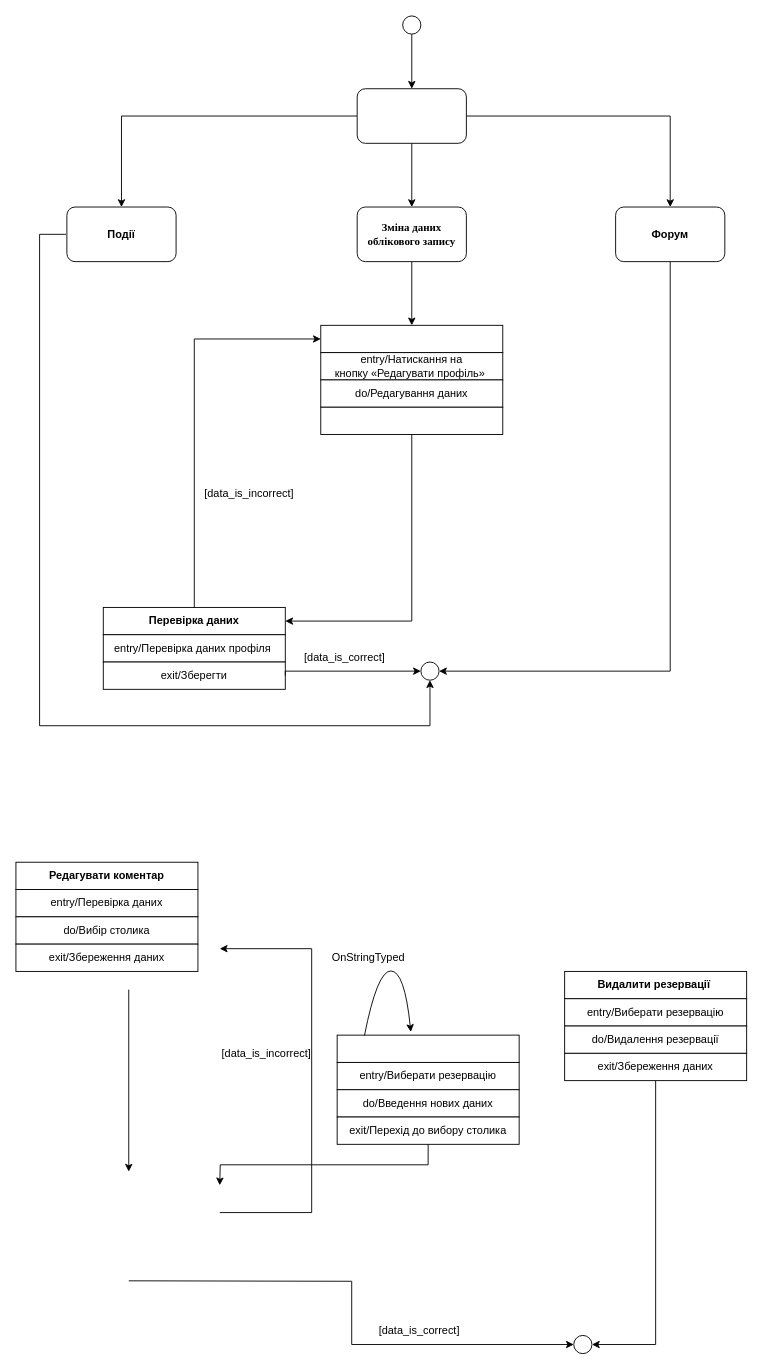
Image size: 763x1370. Some labels were removed from this diagram. Each missing label, with the box of its shape:
exit/ Натискання на кнопку «Зберегти зміни»: (320, 406, 503, 435)
Оберіть дію: (356, 88, 466, 143)
Редагування даних: (320, 324, 503, 353)
Редагувати р езервації: (336, 1034, 519, 1062)
